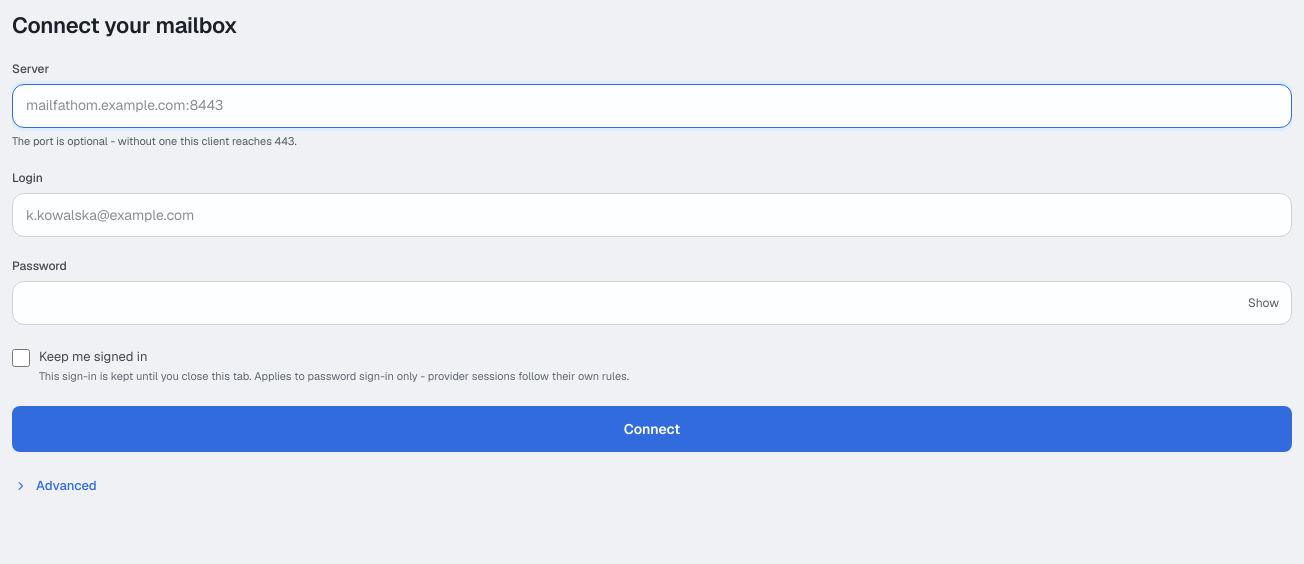
Scenario: SignIn › asks for an address rather than reaching nowhere when nothing was typed
The image size is (1304, 564).
Click the button "Connect". click: [652, 429]
box: 12,406 -> 1292,452
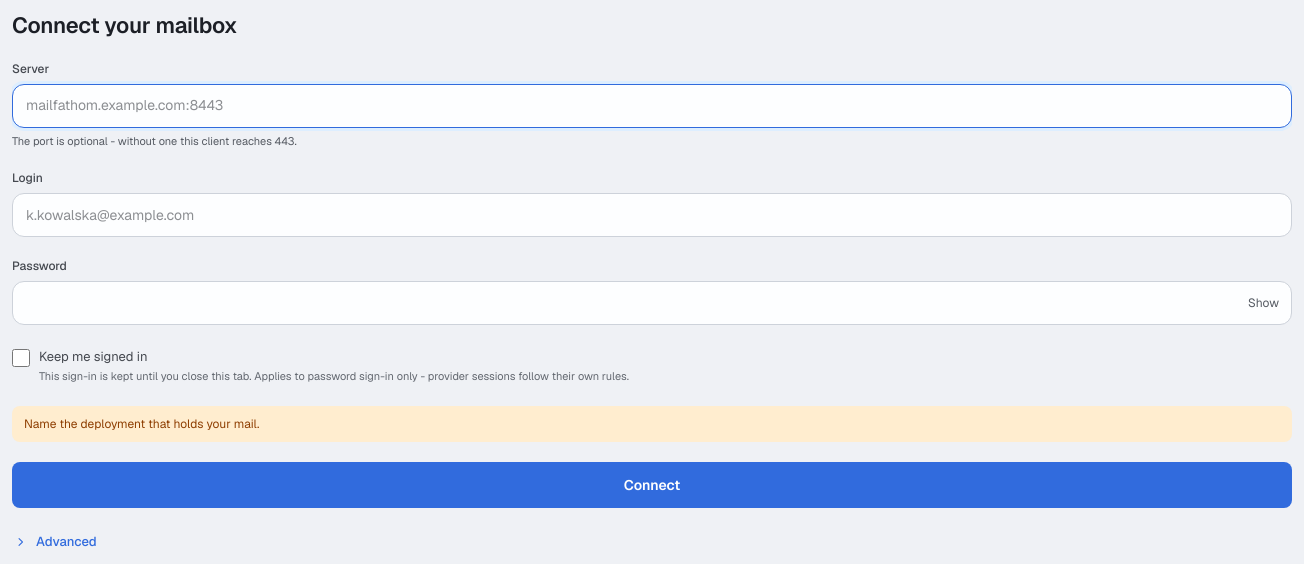
Expected: the message reads "Name the deployment that holds your mail.", 24,416 -> 259,432
